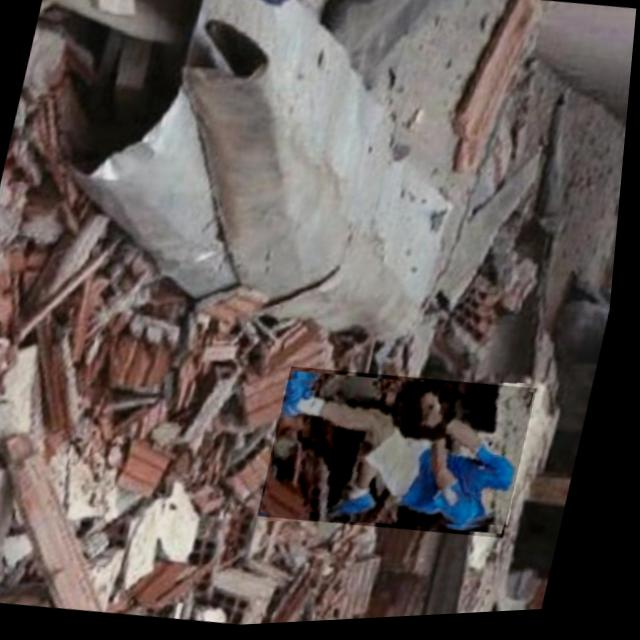Person in Rubble: (264, 360, 546, 554)
